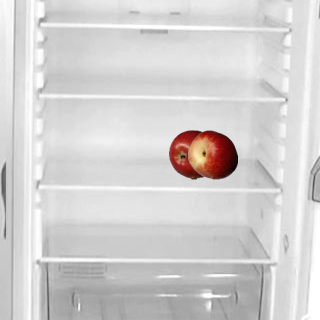Apple Braeburn: (168, 129, 218, 179)
Nectarine: (187, 129, 237, 179)
